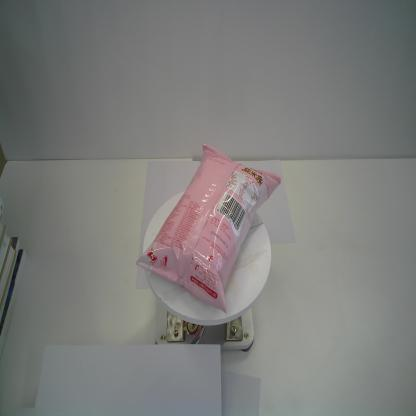Puffed Food: (134, 143, 282, 313)
